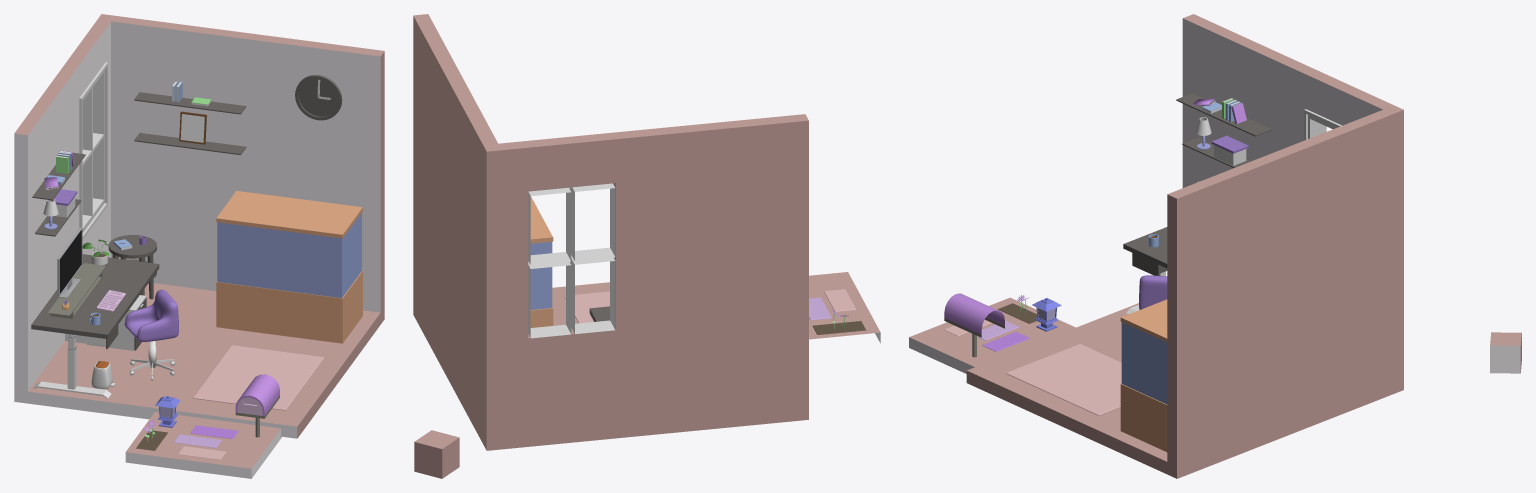
File: room.glb
3 views of the same model, side by side, from view 1: azimuth 30°, elevation 25°; view 2: azimuth 150°, elevation 25°; view 3: azimuth 270°, elevation 25° (orthographic). The views are drawn at different scales.
Parts seen in each view (by area): view 1: Body, Aquarium, Desks, Floor Items, Mini Floor, Shelves, Table Stuff, Chair, Clock, Mailbox, Computer, Lamp (+4 smaller); view 2: Body, Mini Floor, Aquarium, Cube, Floor Items, Dirt, FloorThird; view 3: Body, Aquarium, Floor Items, Mini Floor, Shelves, Mailbox, Desks, Cube, Chair, Lamp.
Part boxes in pixels (left/top/right/bottom): Body: left=14, top=14, right=384, bottom=438; Aquarium: left=216, top=190, right=362, bottom=343; Desks: left=31, top=235, right=159, bottom=398; Floor Items: left=87, top=295, right=324, bottom=410; Mini Floor: left=125, top=412, right=281, bottom=478; Shelves: left=32, top=81, right=246, bottom=236; Table Stuff: left=48, top=236, right=147, bottom=325; Chair: left=124, top=289, right=178, bottom=341; Clock: left=295, top=75, right=342, bottom=120; Mailbox: left=235, top=374, right=279, bottom=437; Computer: left=57, top=227, right=82, bottom=298; Lamp: left=155, top=396, right=180, bottom=427; Body: left=413, top=14, right=808, bottom=450; Mini Floor: left=809, top=272, right=880, bottom=343; Aquarium: left=530, top=196, right=553, bottom=327; Cube: left=414, top=430, right=459, bottom=478; Floor Items: left=564, top=291, right=609, bottom=323; Dirt: left=812, top=321, right=865, bottom=334; FloorThird: left=824, top=289, right=856, bottom=311; Body: left=966, top=14, right=1403, bottom=478; Aquarium: left=1120, top=299, right=1167, bottom=451; Floor Items: left=1006, top=344, right=1121, bottom=415; Mini Floor: left=909, top=297, right=1075, bottom=373; Shelves: left=1176, top=93, right=1271, bottom=167; Mailbox: left=944, top=293, right=1004, bottom=357; Desks: left=1123, top=227, right=1167, bottom=313; Cube: left=1490, top=332, right=1521, bottom=373; Chair: left=1139, top=275, right=1167, bottom=309; Lamp: left=1032, top=298, right=1061, bottom=331.
Size of the model in its own units: 27.58 by 19.65 by 38.64.
